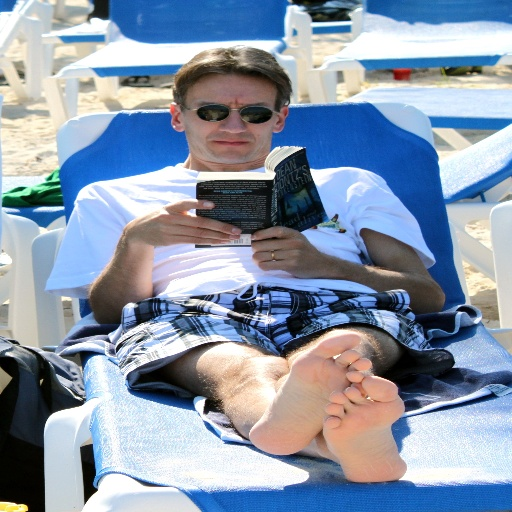hand: (101, 194, 240, 262), (249, 224, 329, 279)
